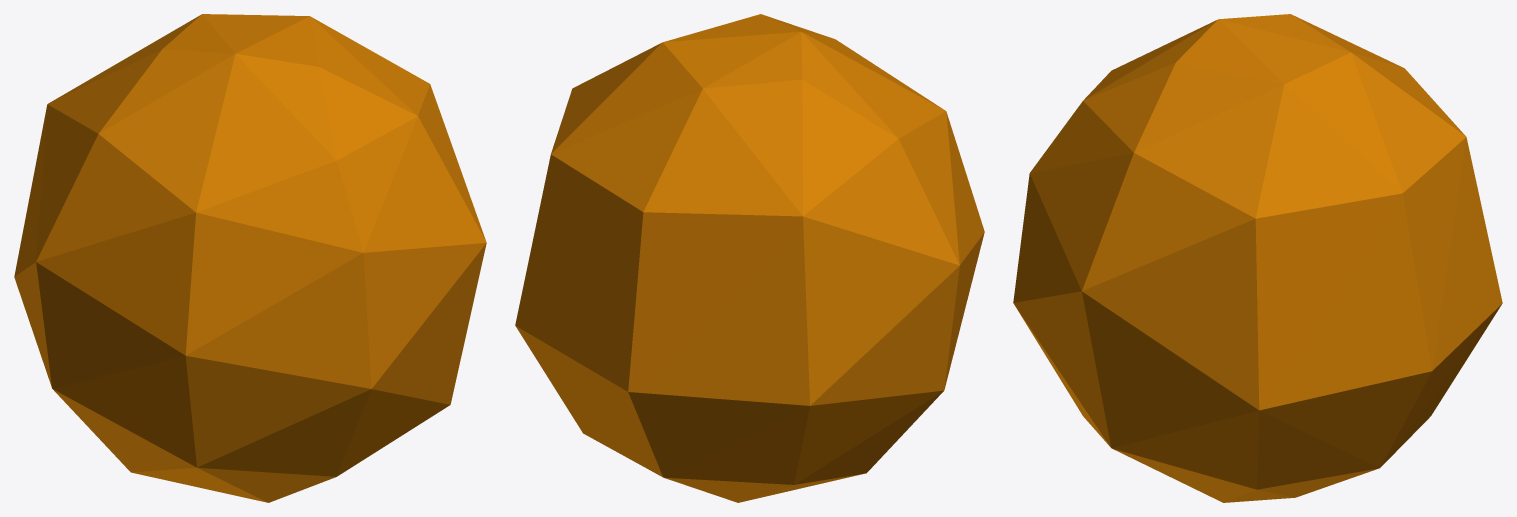
The model's file is orange (1).fbx.
The picture shows the model from 3 angles, left to right: view 1: azimuth 30°, elevation 25°; view 2: azimuth 150°, elevation 25°; view 3: azimuth 270°, elevation 25°; orthographic projection.
Visible parts, largest first — view 1: Sphere; view 2: Sphere; view 3: Sphere.
Part boxes in pixels (left/top/right/bottom): Sphere: left=14, top=14, right=486, bottom=502; Sphere: left=515, top=14, right=984, bottom=502; Sphere: left=1013, top=14, right=1502, bottom=502.
Bounding box in the file's own units: 200 × 200 × 199.
